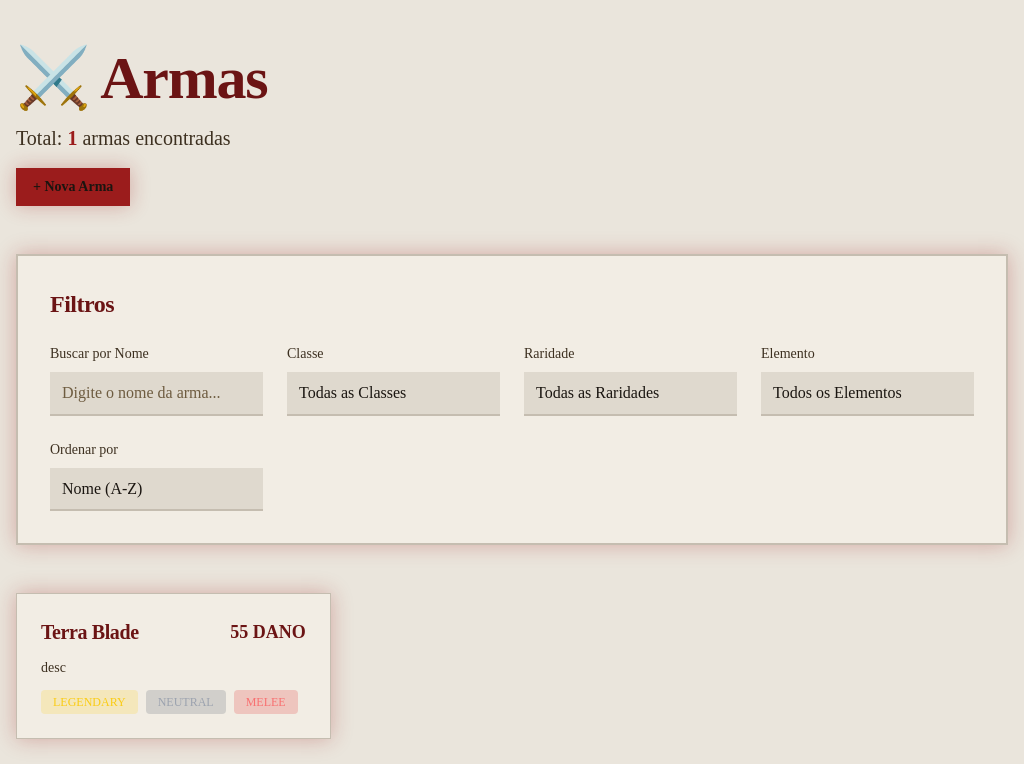
WeaponsPage › shows a wide preview-capable drawer when creating a new weapon
Click the button "+ Nova Arma" at (73, 187), box x1=16 y1=168 x2=130 y2=206
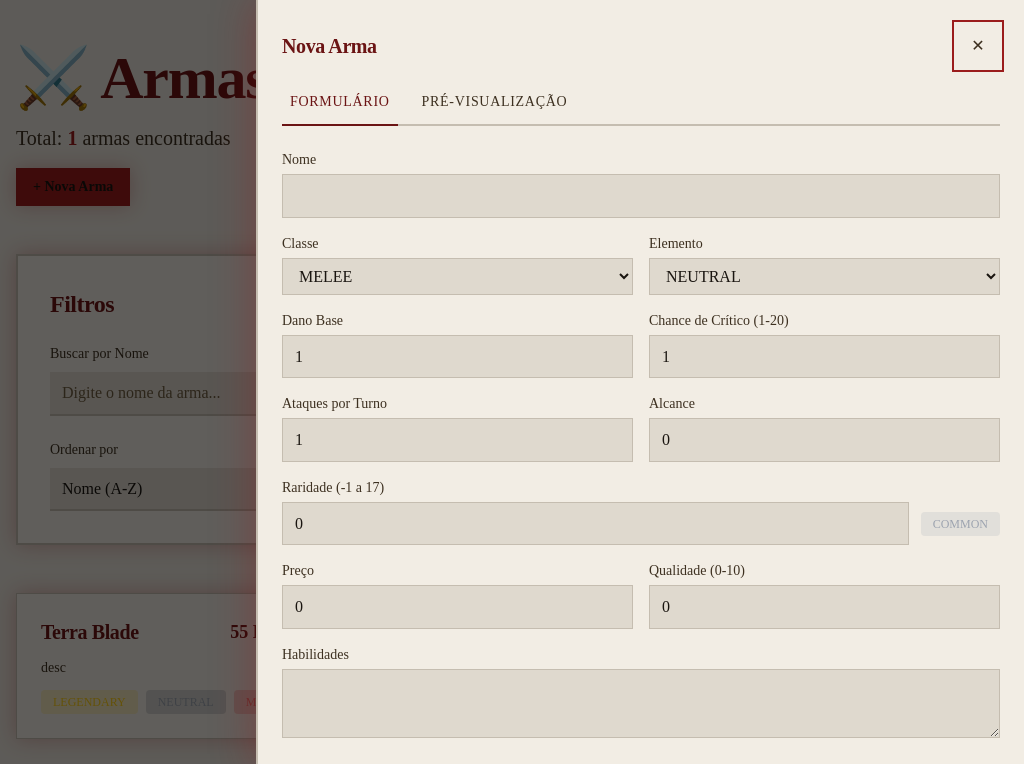
Type "Nova Espada" into the field labelled "Nome" at (641, 196), box x1=282 y1=174 x2=1000 y2=218
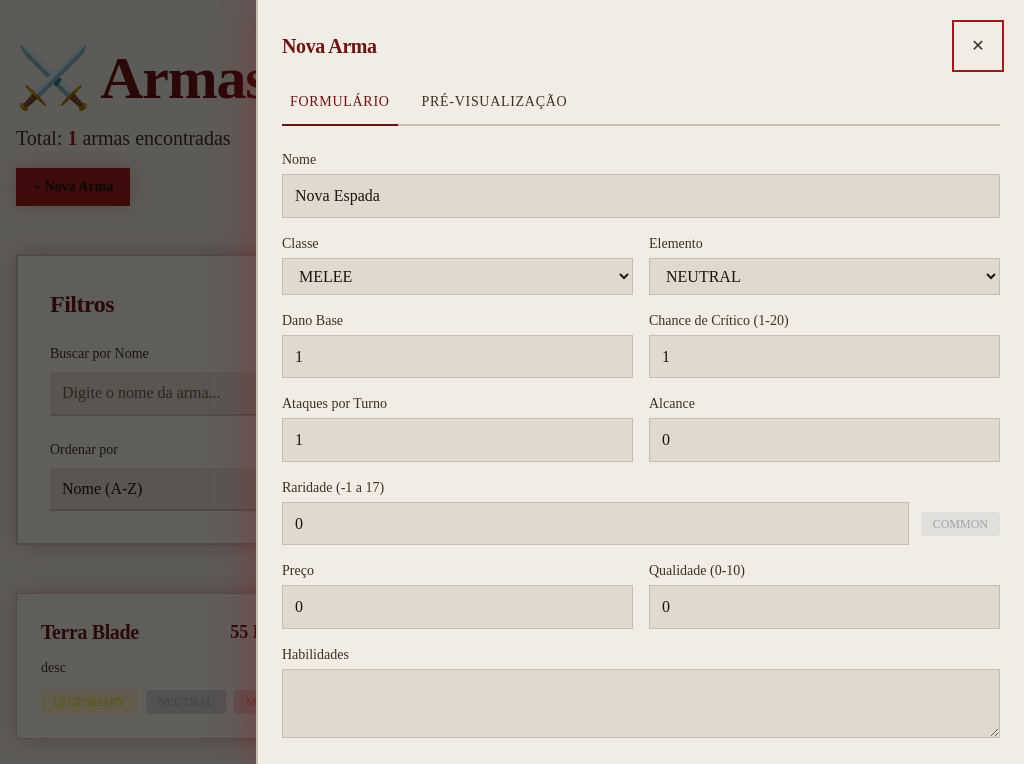
Click the button "Pré-visualização" at (494, 109), box x1=414 y1=92 x2=575 y2=126
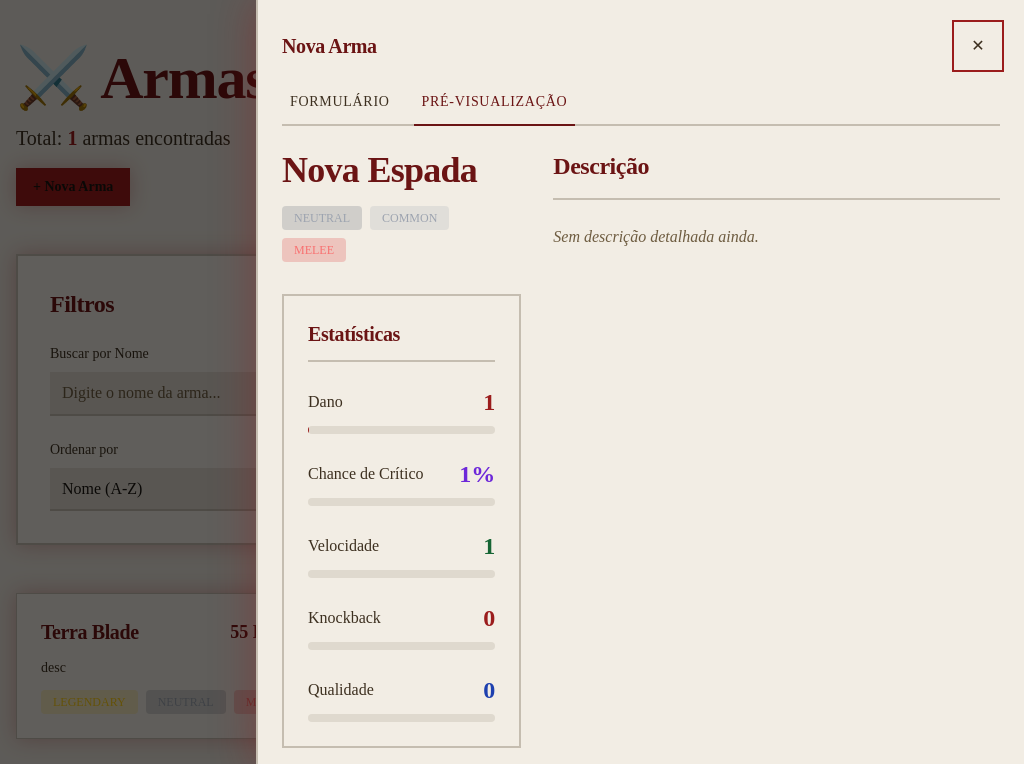
Expected: the heading "Nova Espada" is shown, x1=282 y1=150 x2=477 y2=190
